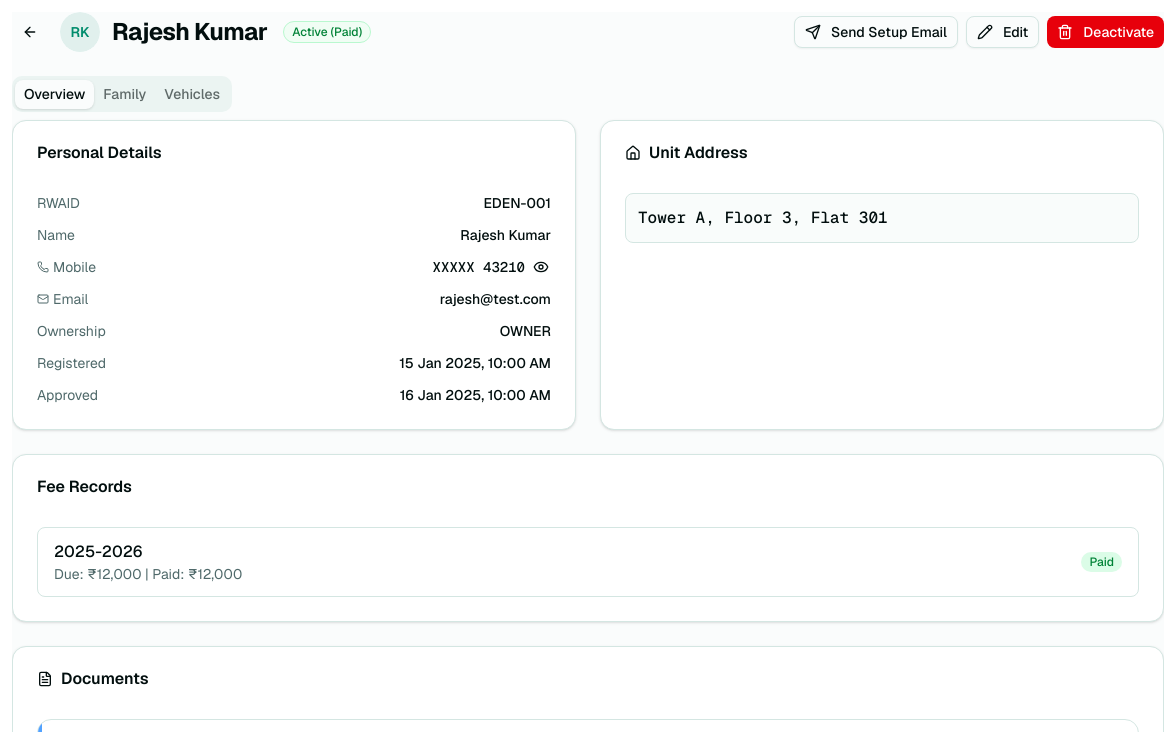
ResidentDetailPage › hides mobile number when hide button is clicked
Click the button named "Show mobile number".
click(541, 267)  # box [531,257,551,277]
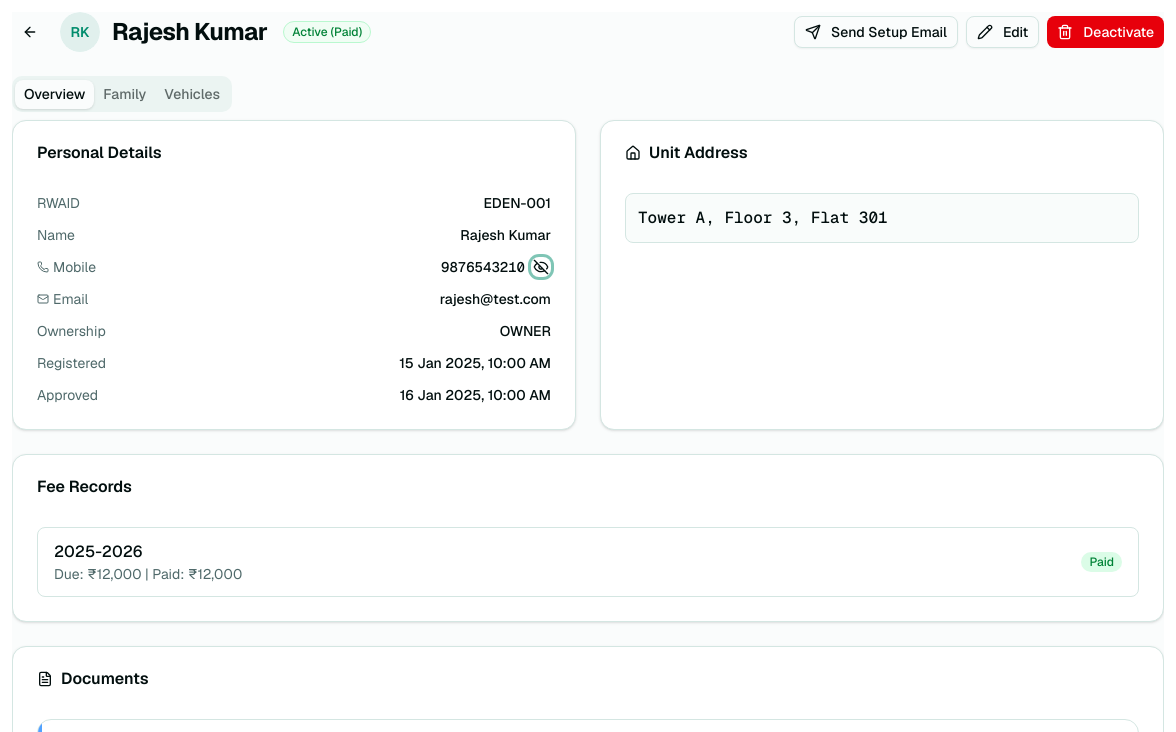
Expected: the button named "Hide mobile number" is shown
Click the button named "Hide mobile number".
click(541, 267)  # box [531,257,551,277]
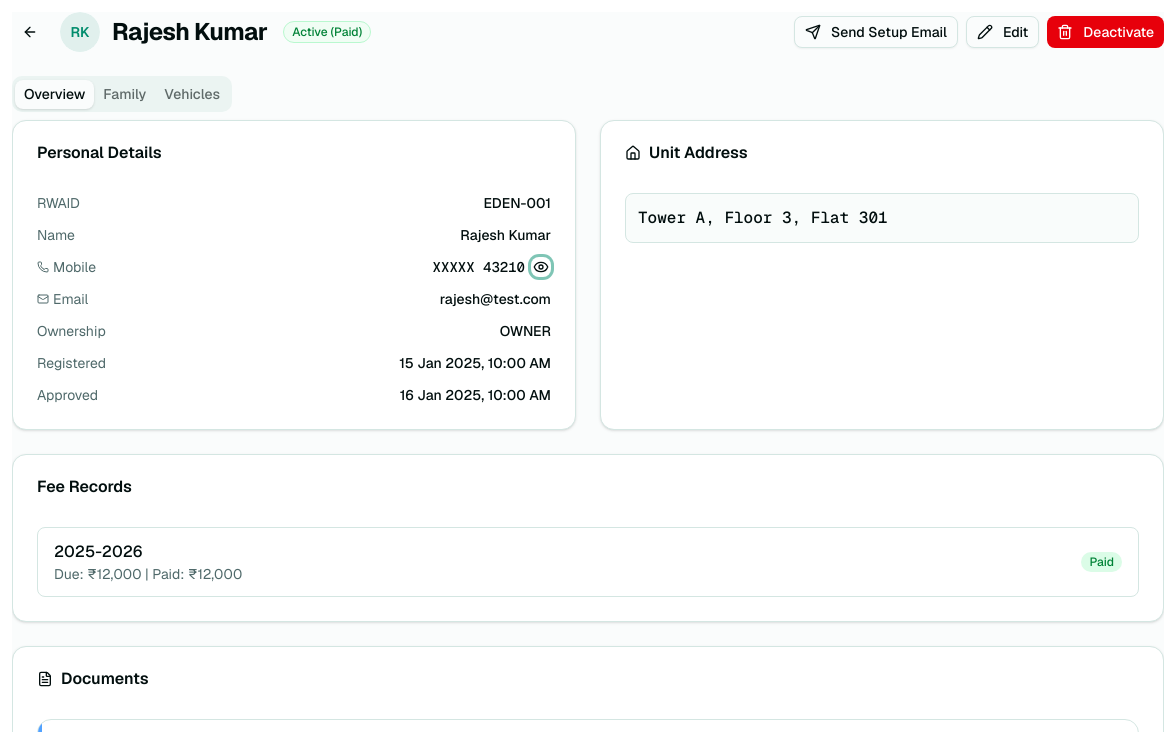
Expected: the text "XXXXX 43210" is shown, [433,257,525,277]
